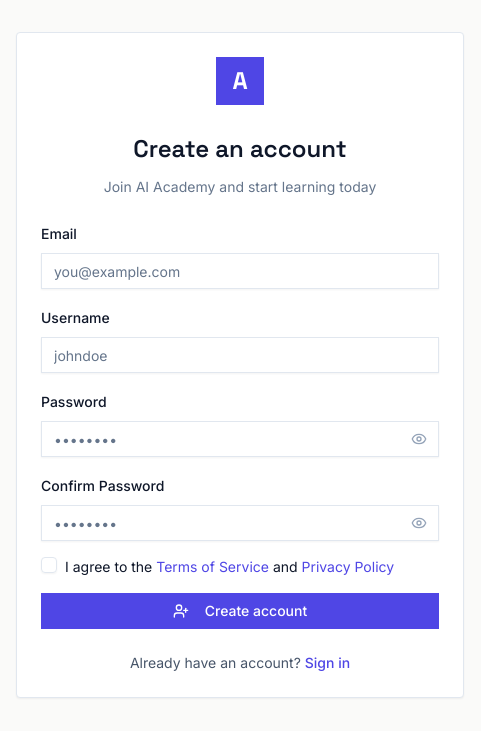
Test: RegisterPage TDD › Should show password strength indicator
Type "weak" into the password field labelled "Password" at point(240, 439), box [41,421,439,457]
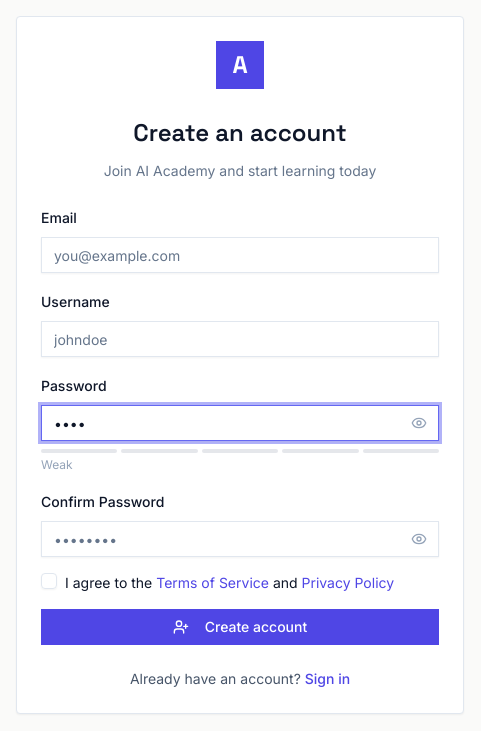
Check: the text "Weak" is shown, box [41,457,73,472]
